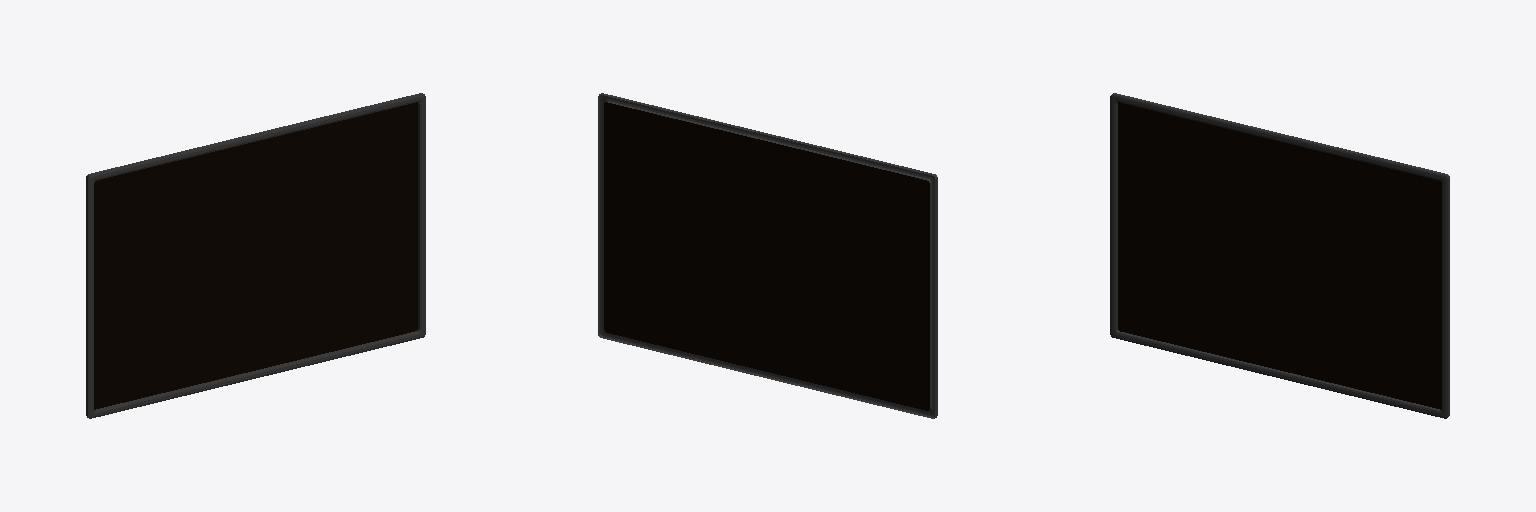
The model's file is pinboard1.obj.
The picture shows the model from 3 angles: view 1: azimuth 30°, elevation 25°; view 2: azimuth 150°, elevation 25°; view 3: azimuth 330°, elevation 25°; orthographic projection.
Visible parts, largest first — view 1: corkboard.001; view 2: corkboard.001; view 3: corkboard.001.
Part boxes in pixels (bbox=[...]): corkboard.001: bbox=[86, 93, 425, 418]; corkboard.001: bbox=[598, 93, 937, 418]; corkboard.001: bbox=[1110, 93, 1449, 418].
Size of the model in its own units: 1.25 by 0.8608 by 0.0154.